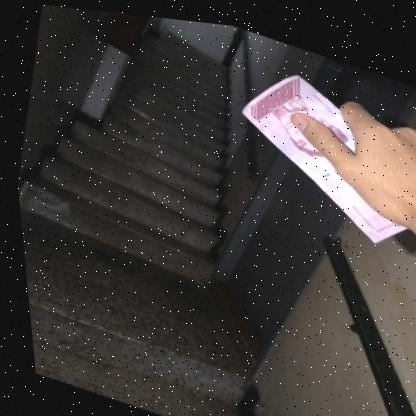one_hundred-front-vef: (216, 49, 416, 247)
